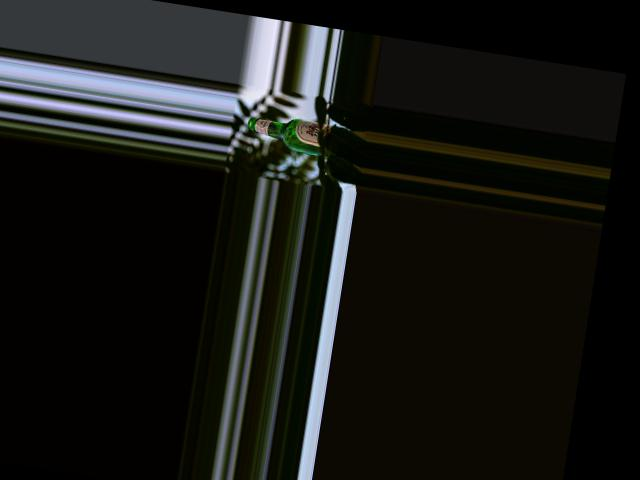beer: (244, 111, 334, 156)
